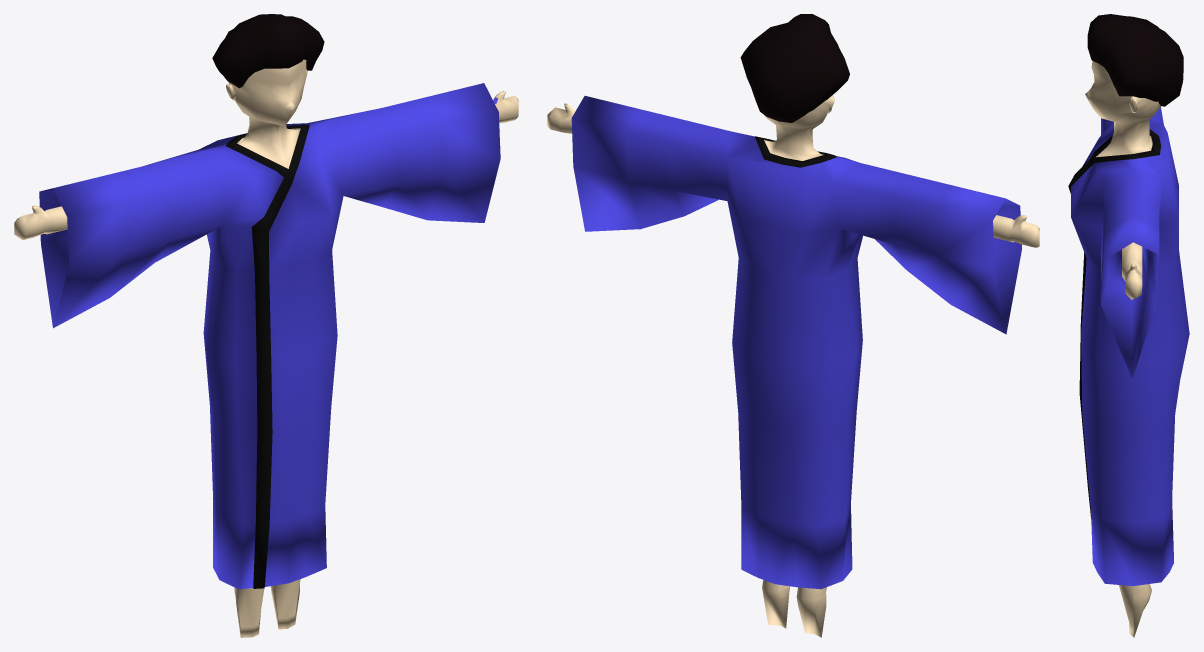
Rendered from blue.fbx.
3 renders of one model, left to right at view 1: azimuth 30°, elevation 25°; view 2: azimuth 150°, elevation 25°; view 3: azimuth 270°, elevation 25°, orthographic. The views are drawn at different scales.
Visible parts, largest first — view 1: hair; view 2: hair; view 3: hair.
Boxes of the visible parts, x1=… form: hair: x1=14, y1=14, x2=518, y2=637; hair: x1=547, y1=14, x2=1039, y2=637; hair: x1=1068, y1=14, x2=1189, y2=637.
Size of the model in its own units: 218 by 257 by 46.46.
